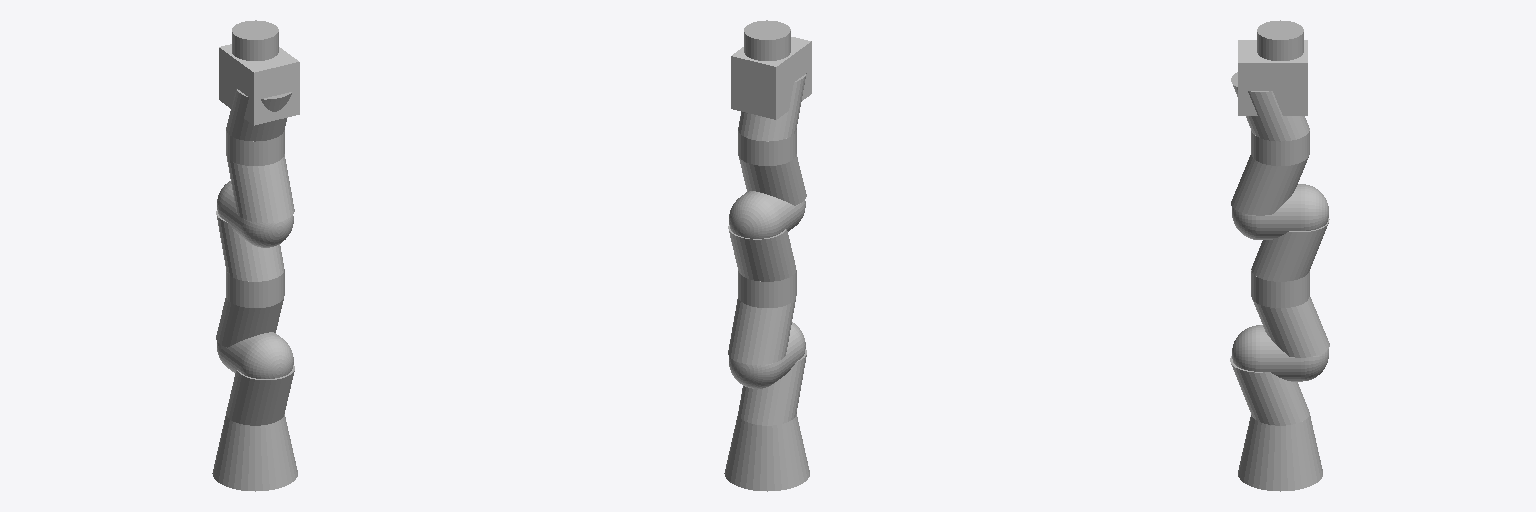
The robot description file, URDF, robot "iiwa_7_filter":
<robot
  name="iiwa_7_filter">
  <link
    name="base_link">
    <inertial>
      <origin
        xyz="-5.3623E-18 -1.2682E-34 0.074406"
        rpy="0 0 0" />
      <mass
        value="4.6242" />
      <inertia
        ixx="0.0212"
        ixy="-2.9968E-35"
        ixz="-1.6116E-20"
        iyy="0.0212"
        iyz="-7.0674E-35"
        izz="0.020954" />
    </inertial>
    <visual>
      <origin
        xyz="0 0 0"
        rpy="0 0 0" />
      <geometry>
        <mesh
          filename="package://iiwa_7_filter/meshes/base_link.STL" />
      </geometry>
      <material
        name="">
        <color
          rgba="0.75294 0.75294 0.75294 1" />
      </material>
    </visual>
    <collision>
      <origin
        xyz="0 0 0"
        rpy="0 0 0" />
      <geometry>
        <mesh
          filename="package://iiwa_7_filter/meshes/base_link.STL" />
      </geometry>
    </collision>
  </link>
  <link
    name="cell_1">
    <inertial>
      <origin
        xyz="6.5052E-08 -0.027362 0.075175"
        rpy="0 0 0" />
      <mass
        value="2.6569" />
      <inertia
        ixx="0.0094044"
        ixy="3.9594E-10"
        ixz="7.419E-20"
        iyy="0.0087413"
        iyz="0.0018217"
        izz="0.0081356" />
    </inertial>
    <visual>
      <origin
        xyz="0 0 0"
        rpy="0 0 0" />
      <geometry>
        <mesh
          filename="package://iiwa_7_filter/meshes/cell_1.STL" />
      </geometry>
      <material
        name="">
        <color
          rgba="0.75294 0.75294 0.75294 1" />
      </material>
    </visual>
    <collision>
      <origin
        xyz="0 0 0"
        rpy="0 0 0" />
      <geometry>
        <mesh
          filename="package://iiwa_7_filter/meshes/cell_1.STL" />
      </geometry>
    </collision>
  </link>
  <joint
    name="joint_1"
    type="revolute">
    <origin
      xyz="0 0 0.17"
      rpy="0 0 0" />
    <parent
      link="base_link" />
    <child
      link="cell_1" />
    <axis
      xyz="0 0 1" />
    <limit
      lower="-3.14"
      upper="3.14"
      effort="0"
      velocity="5.236" />
    <safety_controller
      k_position="100"
      k_velocity="100" />
  </joint>
  <link
    name="cell_2">
    <inertial>
      <origin
        xyz="7.4424E-08 -0.039428 0.011073"
        rpy="0 0 0" />
      <mass
        value="5.8041" />
      <inertia
        ixx="0.037363"
        ixy="7.8671E-09"
        ixz="-1.4709E-08"
        iyy="0.024656"
        iyz="0.0019112"
        izz="0.027578" />
    </inertial>
    <visual>
      <origin
        xyz="0 0 0"
        rpy="0 0 0" />
      <geometry>
        <mesh
          filename="package://iiwa_7_filter/meshes/cell_2.STL" />
      </geometry>
      <material
        name="">
        <color
          rgba="0.75294 0.75294 0.75294 1" />
      </material>
    </visual>
    <collision>
      <origin
        xyz="0 0 0"
        rpy="0 0 0" />
      <geometry>
        <mesh
          filename="package://iiwa_7_filter/meshes/cell_2.STL" />
      </geometry>
    </collision>
  </link>
  <joint
    name="joint_2"
    type="revolute">
    <origin
      xyz="0 0 0.17"
      rpy="-1.5708 0 0" />
    <parent
      link="cell_1" />
    <child
      link="cell_2" />
    <axis
      xyz="0 0 -1" />
    <limit
      lower="-2.094"
      upper="2.094"
      effort="0"
      velocity="5.236" />
    <safety_controller
      k_position="100"
      k_velocity="100" />
  </joint>
  <link
    name="cell_3">
    <inertial>
      <origin
        xyz="-1.2843E-07 0.01659 0.07"
        rpy="0 0 0" />
      <mass
        value="3.7994" />
      <inertia
        ixx="0.021074"
        ixy="-1.2707E-08"
        ixz="3.6634E-08"
        iyy="0.019978"
        iyz="-0.0038344"
        izz="0.011781" />
    </inertial>
    <visual>
      <origin
        xyz="0 0 0"
        rpy="0 0 0" />
      <geometry>
        <mesh
          filename="package://iiwa_7_filter/meshes/cell_3.STL" />
      </geometry>
      <material
        name="">
        <color
          rgba="0.75294 0.75294 0.75294 1" />
      </material>
    </visual>
    <collision>
      <origin
        xyz="0 0 0"
        rpy="0 0 0" />
      <geometry>
        <mesh
          filename="package://iiwa_7_filter/meshes/cell_3.STL" />
      </geometry>
    </collision>
  </link>
  <joint
    name="joint_3"
    type="revolute">
    <origin
      xyz="0 -0.2 0"
      rpy="1.5708 0 0" />
    <parent
      link="cell_2" />
    <child
      link="cell_3" />
    <axis
      xyz="0 0 1" />
    <limit
      lower="-3.14"
      upper="3.14"
      effort="0"
      velocity="5.236" />
    <safety_controller
      k_position="100"
      k_velocity="100" />
  </joint>
  <link
    name="cell_4">
    <inertial>
      <origin
        xyz="-7.4977E-08 0.040494 0.011144"
        rpy="0 0 0" />
      <mass
        value="5.8041" />
      <inertia
        ixx="0.038048"
        ixy="8.5235E-09"
        ixz="1.6335E-08"
        iyy="0.024676"
        iyz="-0.0020163"
        izz="0.028244" />
    </inertial>
    <visual>
      <origin
        xyz="0 0 0"
        rpy="0 0 0" />
      <geometry>
        <mesh
          filename="package://iiwa_7_filter/meshes/cell_4.STL" />
      </geometry>
      <material
        name="">
        <color
          rgba="0.75294 0.75294 0.75294 1" />
      </material>
    </visual>
    <collision>
      <origin
        xyz="0 0 0"
        rpy="0 0 0" />
      <geometry>
        <mesh
          filename="package://iiwa_7_filter/meshes/cell_4.STL" />
      </geometry>
    </collision>
  </link>
  <joint
    name="joint_4"
    type="revolute">
    <origin
      xyz="0 0 0.2"
      rpy="1.5708 0 0" />
    <parent
      link="cell_3" />
    <child
      link="cell_4" />
    <axis
      xyz="0 0 1" />
    <limit
      lower="-2.093"
      upper="2.093"
      effort="0"
      velocity="5.236" />
    <safety_controller
      k_position="100"
      k_velocity="100" />
  </joint>
  <link
    name="cell_5">
    <inertial>
      <origin
        xyz="1.3229E-07 -0.017429 0.07"
        rpy="0 0 0" />
      <mass
        value="3.711" />
      <inertia
        ixx="0.019984"
        ixy="-1.2722E-08"
        ixz="-3.5518E-08"
        iyy="0.018857"
        iyz="0.003773"
        izz="0.011564" />
    </inertial>
    <visual>
      <origin
        xyz="0 0 0"
        rpy="0 0 0" />
      <geometry>
        <mesh
          filename="package://iiwa_7_filter/meshes/cell_5.STL" />
      </geometry>
      <material
        name="">
        <color
          rgba="0.75294 0.75294 0.75294 1" />
      </material>
    </visual>
    <collision>
      <origin
        xyz="0 0 0"
        rpy="0 0 0" />
      <geometry>
        <mesh
          filename="package://iiwa_7_filter/meshes/cell_5.STL" />
      </geometry>
    </collision>
  </link>
  <joint
    name="joint_5"
    type="revolute">
    <origin
      xyz="0 0.2 0"
      rpy="-1.5708 0 0" />
    <parent
      link="cell_4" />
    <child
      link="cell_5" />
    <axis
      xyz="0 0 1" />
    <limit
      lower="-3.14"
      upper="3.14"
      effort="0"
      velocity="5.236" />
    <safety_controller
      k_position="100"
      k_velocity="100" />
  </joint>
  <link
    name="cell_6">
    <inertial>
      <origin
        xyz="2.2309E-18 0.02 -0.02"
        rpy="0 0 0" />
      <mass
        value="3.645" />
      <inertia
        ixx="0.016676"
        ixy="-3.3572E-35"
        ixz="-1.301E-18"
        iyy="0.015377"
        iyz="4.0312E-36"
        izz="0.01237" />
    </inertial>
    <visual>
      <origin
        xyz="0 0 0"
        rpy="0 0 0" />
      <geometry>
        <mesh
          filename="package://iiwa_7_filter/meshes/cell_6.STL" />
      </geometry>
      <material
        name="">
        <color
          rgba="0.82353 0.82353 0.82353 1" />
      </material>
    </visual>
    <collision>
      <origin
        xyz="0 0 0"
        rpy="0 0 0" />
      <geometry>
        <mesh
          filename="package://iiwa_7_filter/meshes/cell_6.STL" />
      </geometry>
    </collision>
  </link>
  <joint
    name="joint_6"
    type="revolute">
    <origin
      xyz="0 0 0.2"
      rpy="-1.5708 0 0" />
    <parent
      link="cell_5" />
    <child
      link="cell_6" />
    <axis
      xyz="0 0 1" />
    <limit
      lower="-2.093"
      upper="2.093"
      effort="0"
      velocity="5.236" />
    <safety_controller
      k_position="100"
      k_velocity="100" />
  </joint>
  <link
    name="cell_7">
    <inertial>
      <origin
        xyz="1.2272E-18 0 0.03"
        rpy="0 0 0" />
      <mass
        value="0.67858" />
      <inertia
        ixx="0.0008143"
        ixy="0"
        ixz="-2.351E-36"
        iyy="0.0008143"
        iyz="-2.3604E-36"
        izz="0.0012215" />
    </inertial>
    <visual>
      <origin
        xyz="0 0 0"
        rpy="0 0 0" />
      <geometry>
        <mesh
          filename="package://iiwa_7_filter/meshes/cell_7.STL" />
      </geometry>
      <material
        name="">
        <color
          rgba="0.75294 0.75294 0.75294 1" />
      </material>
    </visual>
    <collision>
      <origin
        xyz="0 0 0"
        rpy="0 0 0" />
      <geometry>
        <mesh
          filename="package://iiwa_7_filter/meshes/cell_7.STL" />
      </geometry>
    </collision>
  </link>
  <joint
    name="joint_7"
    type="revolute">
    <origin
      xyz="0 -0.055 0"
      rpy="1.5708 0 0" />
    <parent
      link="cell_6" />
    <child
      link="cell_7" />
    <axis
      xyz="0 0 1" />
    <limit
      lower="-3.14"
      upper="3.14"
      effort="0"
      velocity="5.236" />
    <safety_controller
      k_position="100"
      k_velocity="100" />
  </joint>
</robot>

--- Facts derived from the render (not from the file) ---
3 views of the same robot in one strip: view 1: azimuth 30°, elevation 25°; view 2: azimuth 150°, elevation 25°; view 3: azimuth 270°, elevation 25° (orthographic).
Model iiwa_7_filter with 8 links and 7 joints (7 revolute), rooted at base_link, posed all joints at 0.
Visible links, largest first — view 1: cell_4, base_link, cell_2, cell_6, cell_3, cell_5, cell_1, cell_7; view 2: cell_2, base_link, cell_4, cell_6, cell_3, cell_5, cell_1, cell_7; view 3: cell_4, cell_2, base_link, cell_3, cell_6, cell_5, cell_1, cell_7.
Boxes of the visible links, left/top/right/bottom form: cell_4: left=217, top=154, right=294, bottom=247; base_link: left=212, top=414, right=297, bottom=491; cell_2: left=216, top=298, right=293, bottom=378; cell_6: left=219, top=44, right=299, bottom=125; cell_3: left=216, top=210, right=284, bottom=307; cell_5: left=226, top=88, right=291, bottom=165; cell_1: left=226, top=365, right=294, bottom=425; cell_7: left=232, top=20, right=278, bottom=60; cell_2: left=728, top=298, right=805, bottom=388; base_link: left=724, top=414, right=809, bottom=491; cell_4: left=729, top=154, right=806, bottom=238; cell_6: left=731, top=37, right=811, bottom=119; cell_3: left=728, top=225, right=796, bottom=307; cell_5: left=738, top=73, right=806, bottom=165; cell_1: left=738, top=349, right=806, bottom=425; cell_7: left=744, top=20, right=790, bottom=60; cell_4: left=1231, top=155, right=1328, bottom=239; cell_2: left=1232, top=297, right=1329, bottom=381; base_link: left=1238, top=415, right=1322, bottom=491; cell_3: left=1251, top=218, right=1329, bottom=307; cell_6: left=1238, top=40, right=1307, bottom=115; cell_5: left=1231, top=72, right=1309, bottom=165; cell_1: left=1230, top=356, right=1309, bottom=425; cell_7: left=1257, top=20, right=1303, bottom=60.
Size in the robot's own frame: 0.22 by 0.2565 by 1.25 metres.
Meshes: 8 distinct files referenced, 8 mesh visuals loaded (8 binary STL).